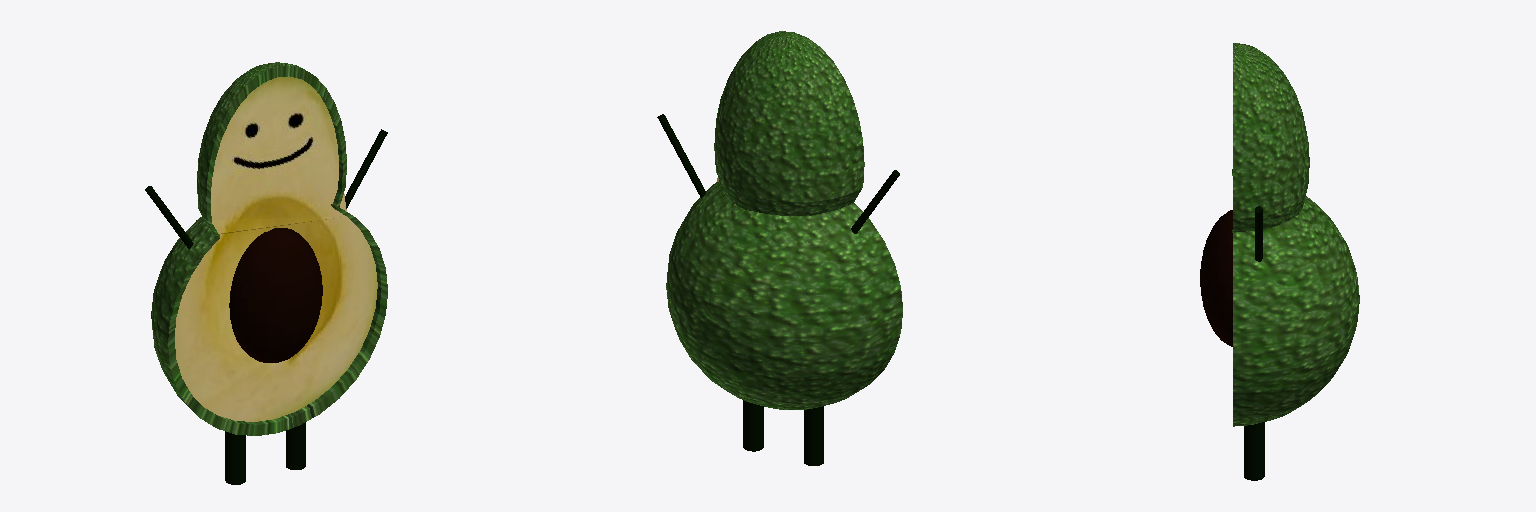
The picture shows the model from 3 angles: view 1: azimuth 30°, elevation 25°; view 2: azimuth 150°, elevation 25°; view 3: azimuth 270°, elevation 25°; orthographic projection.
Parts seen in each view (by area): view 1: Sphere.001; view 2: Sphere.001; view 3: Sphere.001.
Part boxes in pixels (x1,y1,x2,y2): Sphere.001: (145, 62, 387, 484); Sphere.001: (657, 31, 902, 465); Sphere.001: (1200, 43, 1359, 480).
Size of the model in its own units: 2.19 by 3.6 by 1.26.
4 materials, 2 textured.